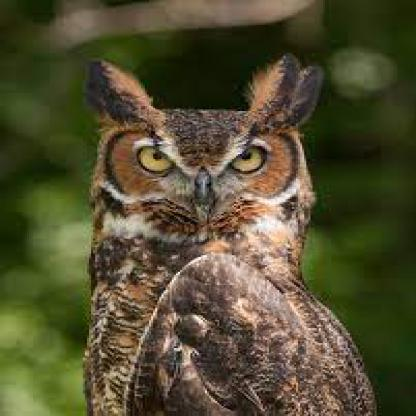owl: (122, 35, 414, 414)
